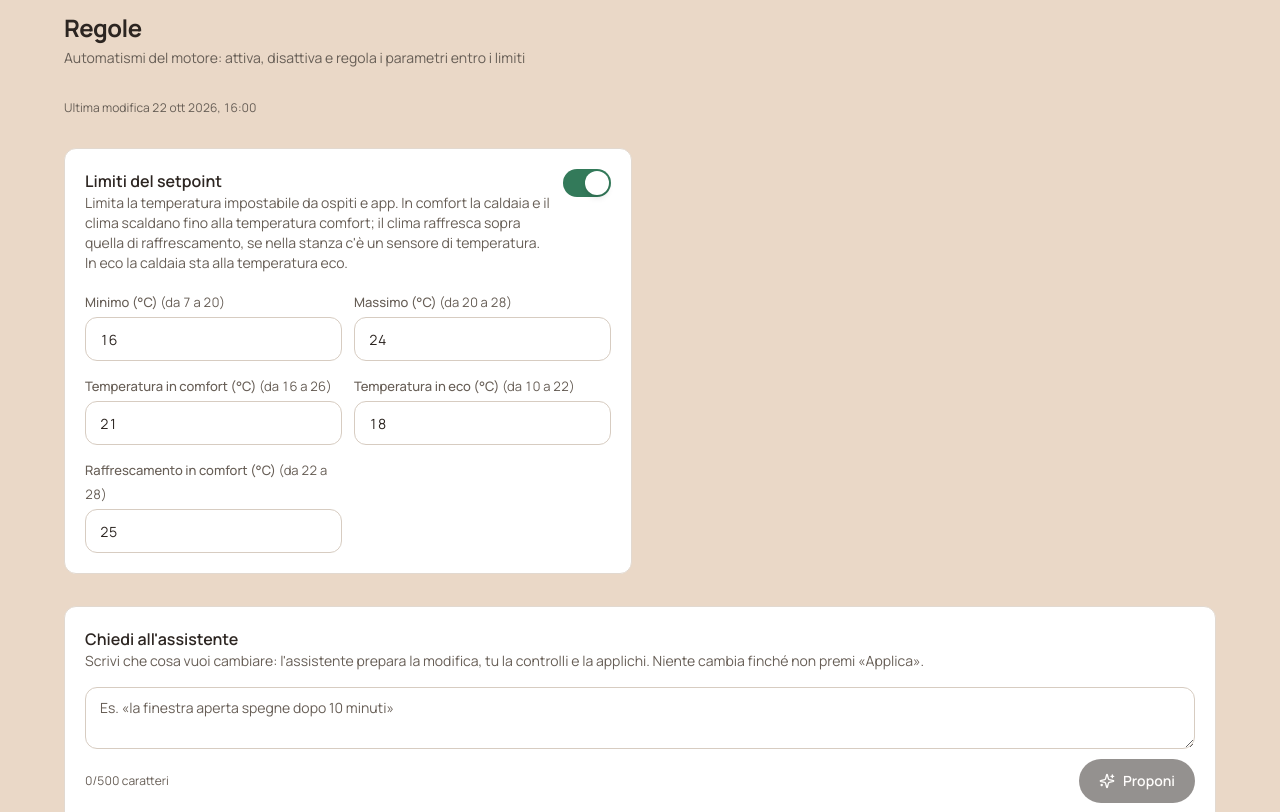
Test: Regole: le temperature delle modalità (lotto 30) › valori coerenti per il sito ma rifiutati dal server (422): il messaggio del server
The width and height of the screenshot is (1280, 812).
Expected: the element with test id "rule-card-setpoint_limits" is shown, [64,148,632,574]
Replace the text in the number field with test id "rule-param-setpoint_limits-comfort_celsius" with "22": (214, 423) [85,401,342,445]
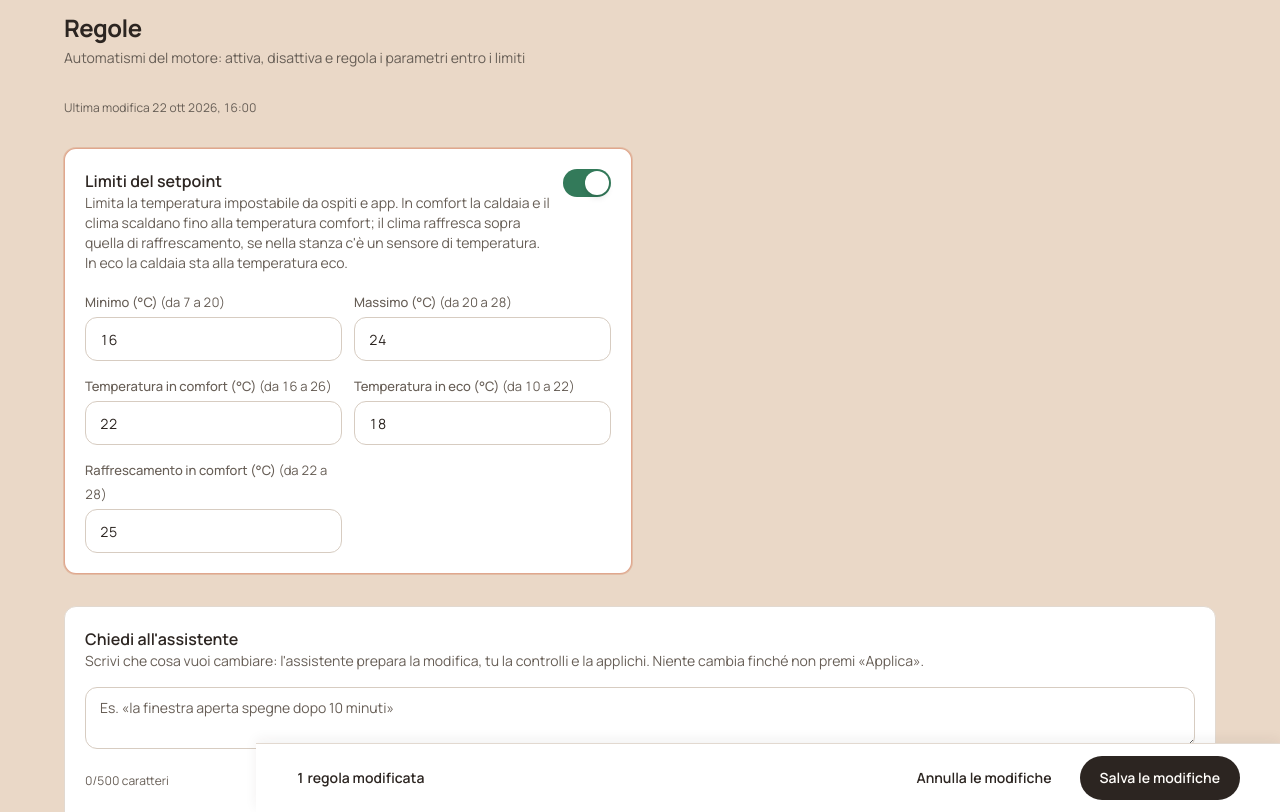
Click the button with test id "rules-save-btn": click(1160, 778) [1080,756,1240,800]
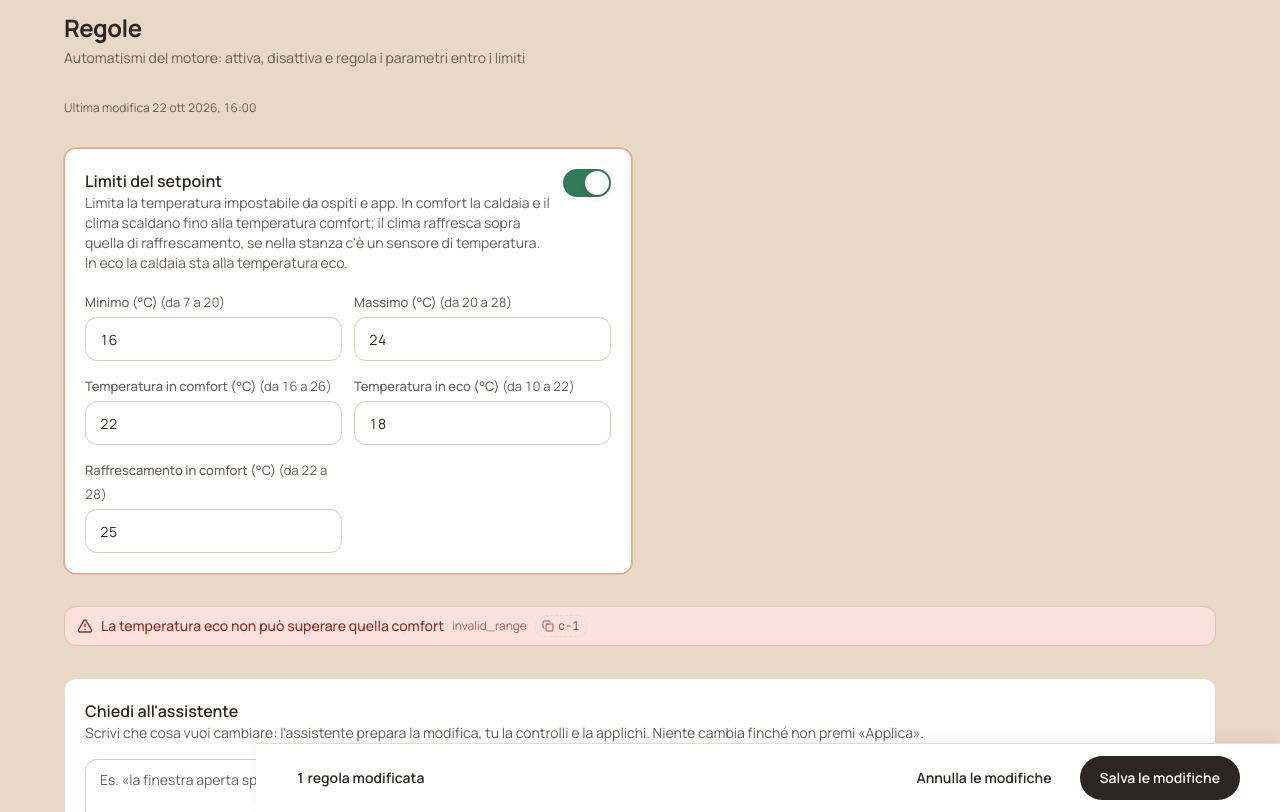
Result: the message with test id "rules-save-error" shows "La temperatura eco non può superare quella comfort" at [101,616,444,635]
